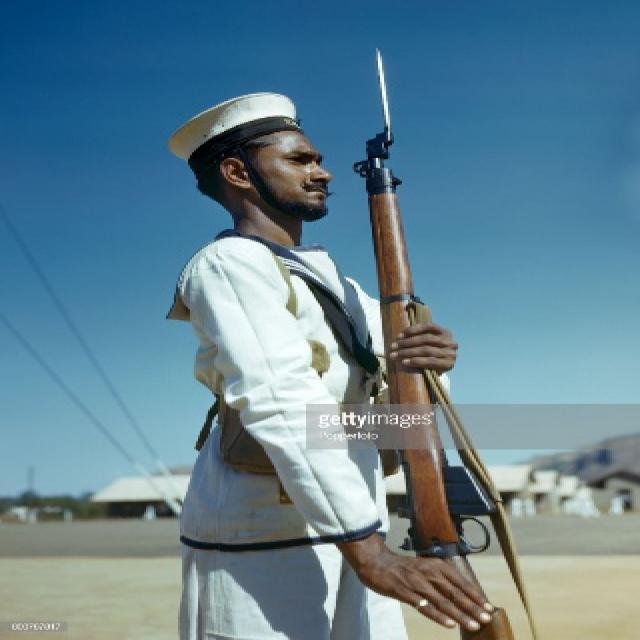weapon: (342, 37, 514, 639)
